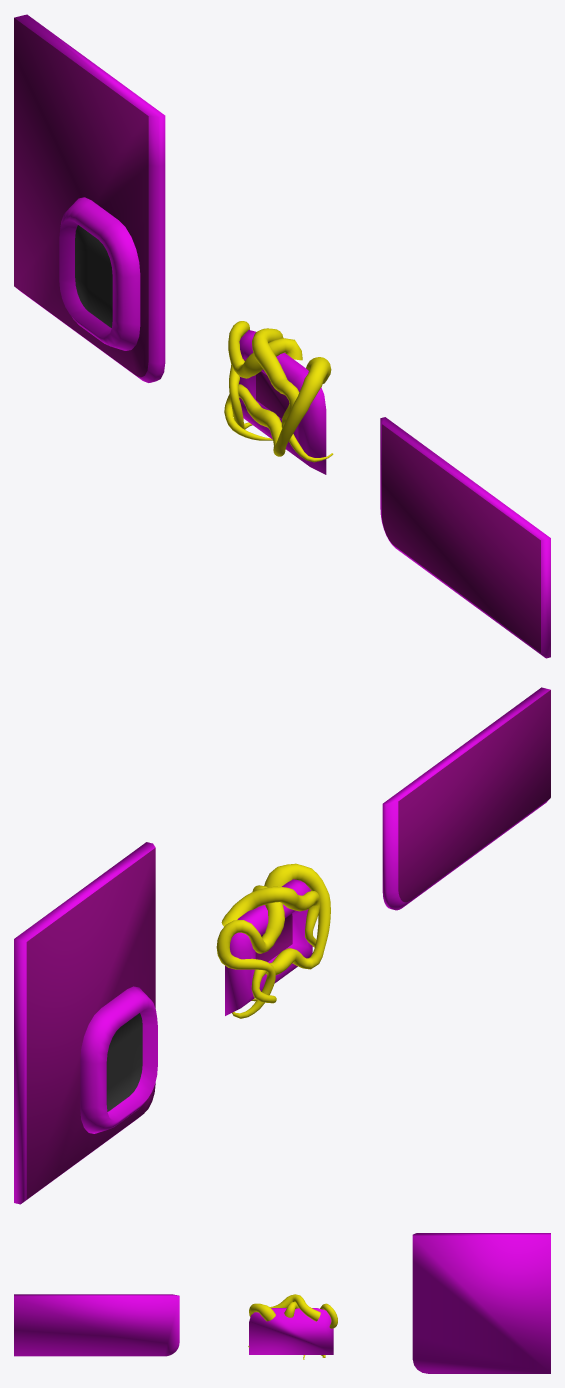
3 renders of one model, top to bottom at view 1: azimuth 30°, elevation 25°; view 2: azimuth 150°, elevation 25°; view 3: azimuth 270°, elevation 25°, orthographic. The views are drawn at different scales.
Parts seen in each view (by area): view 1: Map, Log, Roots, RootsRoot1, RootsRoot2, RootsRoot3; view 2: Map, Log, Roots, RootsRoot1, RootsRoot2, RootsRoot3; view 3: Map, Log, Roots, RootsRoot3, RootsRoot2, RootsRoot1.
Part boxes in pixels (x1=…): Map: x1=14, y1=14, x2=165, y2=382; Log: x1=380, y1=417, x2=550, y2=658; Roots: x1=239, y1=330, x2=326, y2=474; RootsRoot1: x1=224, y1=357, x2=331, y2=456; RootsRoot2: x1=228, y1=321, x2=302, y2=429; RootsRoot3: x1=252, y1=328, x2=333, y2=462; Map: x1=14, y1=842, x2=157, y2=1204; Log: x1=382, y1=687, x2=550, y2=910; Roots: x1=225, y1=879, x2=312, y2=1015; RootsRoot1: x1=251, y1=863, x2=330, y2=1003; RootsRoot2: x1=216, y1=885, x2=284, y2=1018; RootsRoot3: x1=221, y1=886, x2=320, y2=947; Map: x1=412, y1=1233, x2=550, y2=1373; Log: x1=14, y1=1294, x2=179, y2=1356; Roots: x1=249, y1=1308, x2=333, y2=1354; RootsRoot3: x1=248, y1=1294, x2=320, y2=1347; RootsRoot2: x1=284, y1=1301, x2=337, y2=1357; RootsRoot1: x1=249, y1=1303, x2=305, y2=1359.
Size of the model in its own units: 208 by 982 by 3473.
